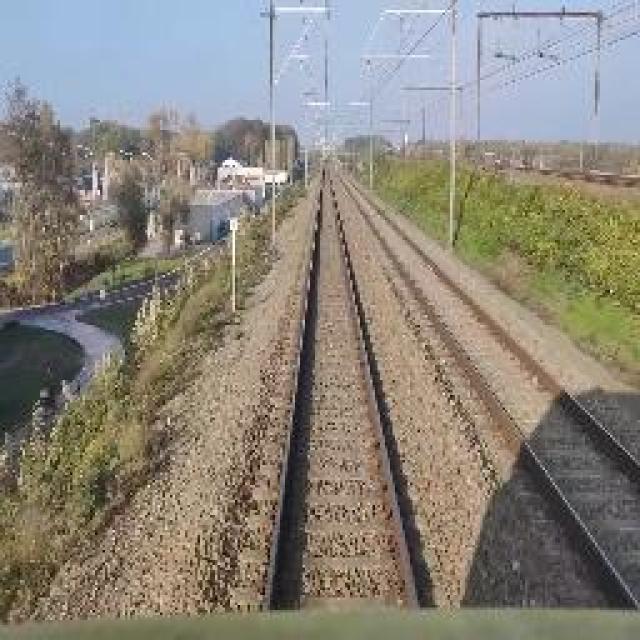rail: (239, 165, 445, 616)
